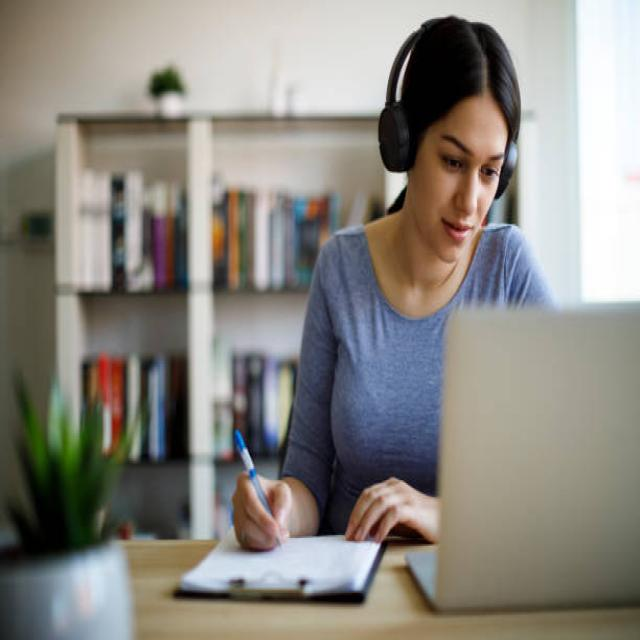Headphone: (378, 15, 520, 202)
